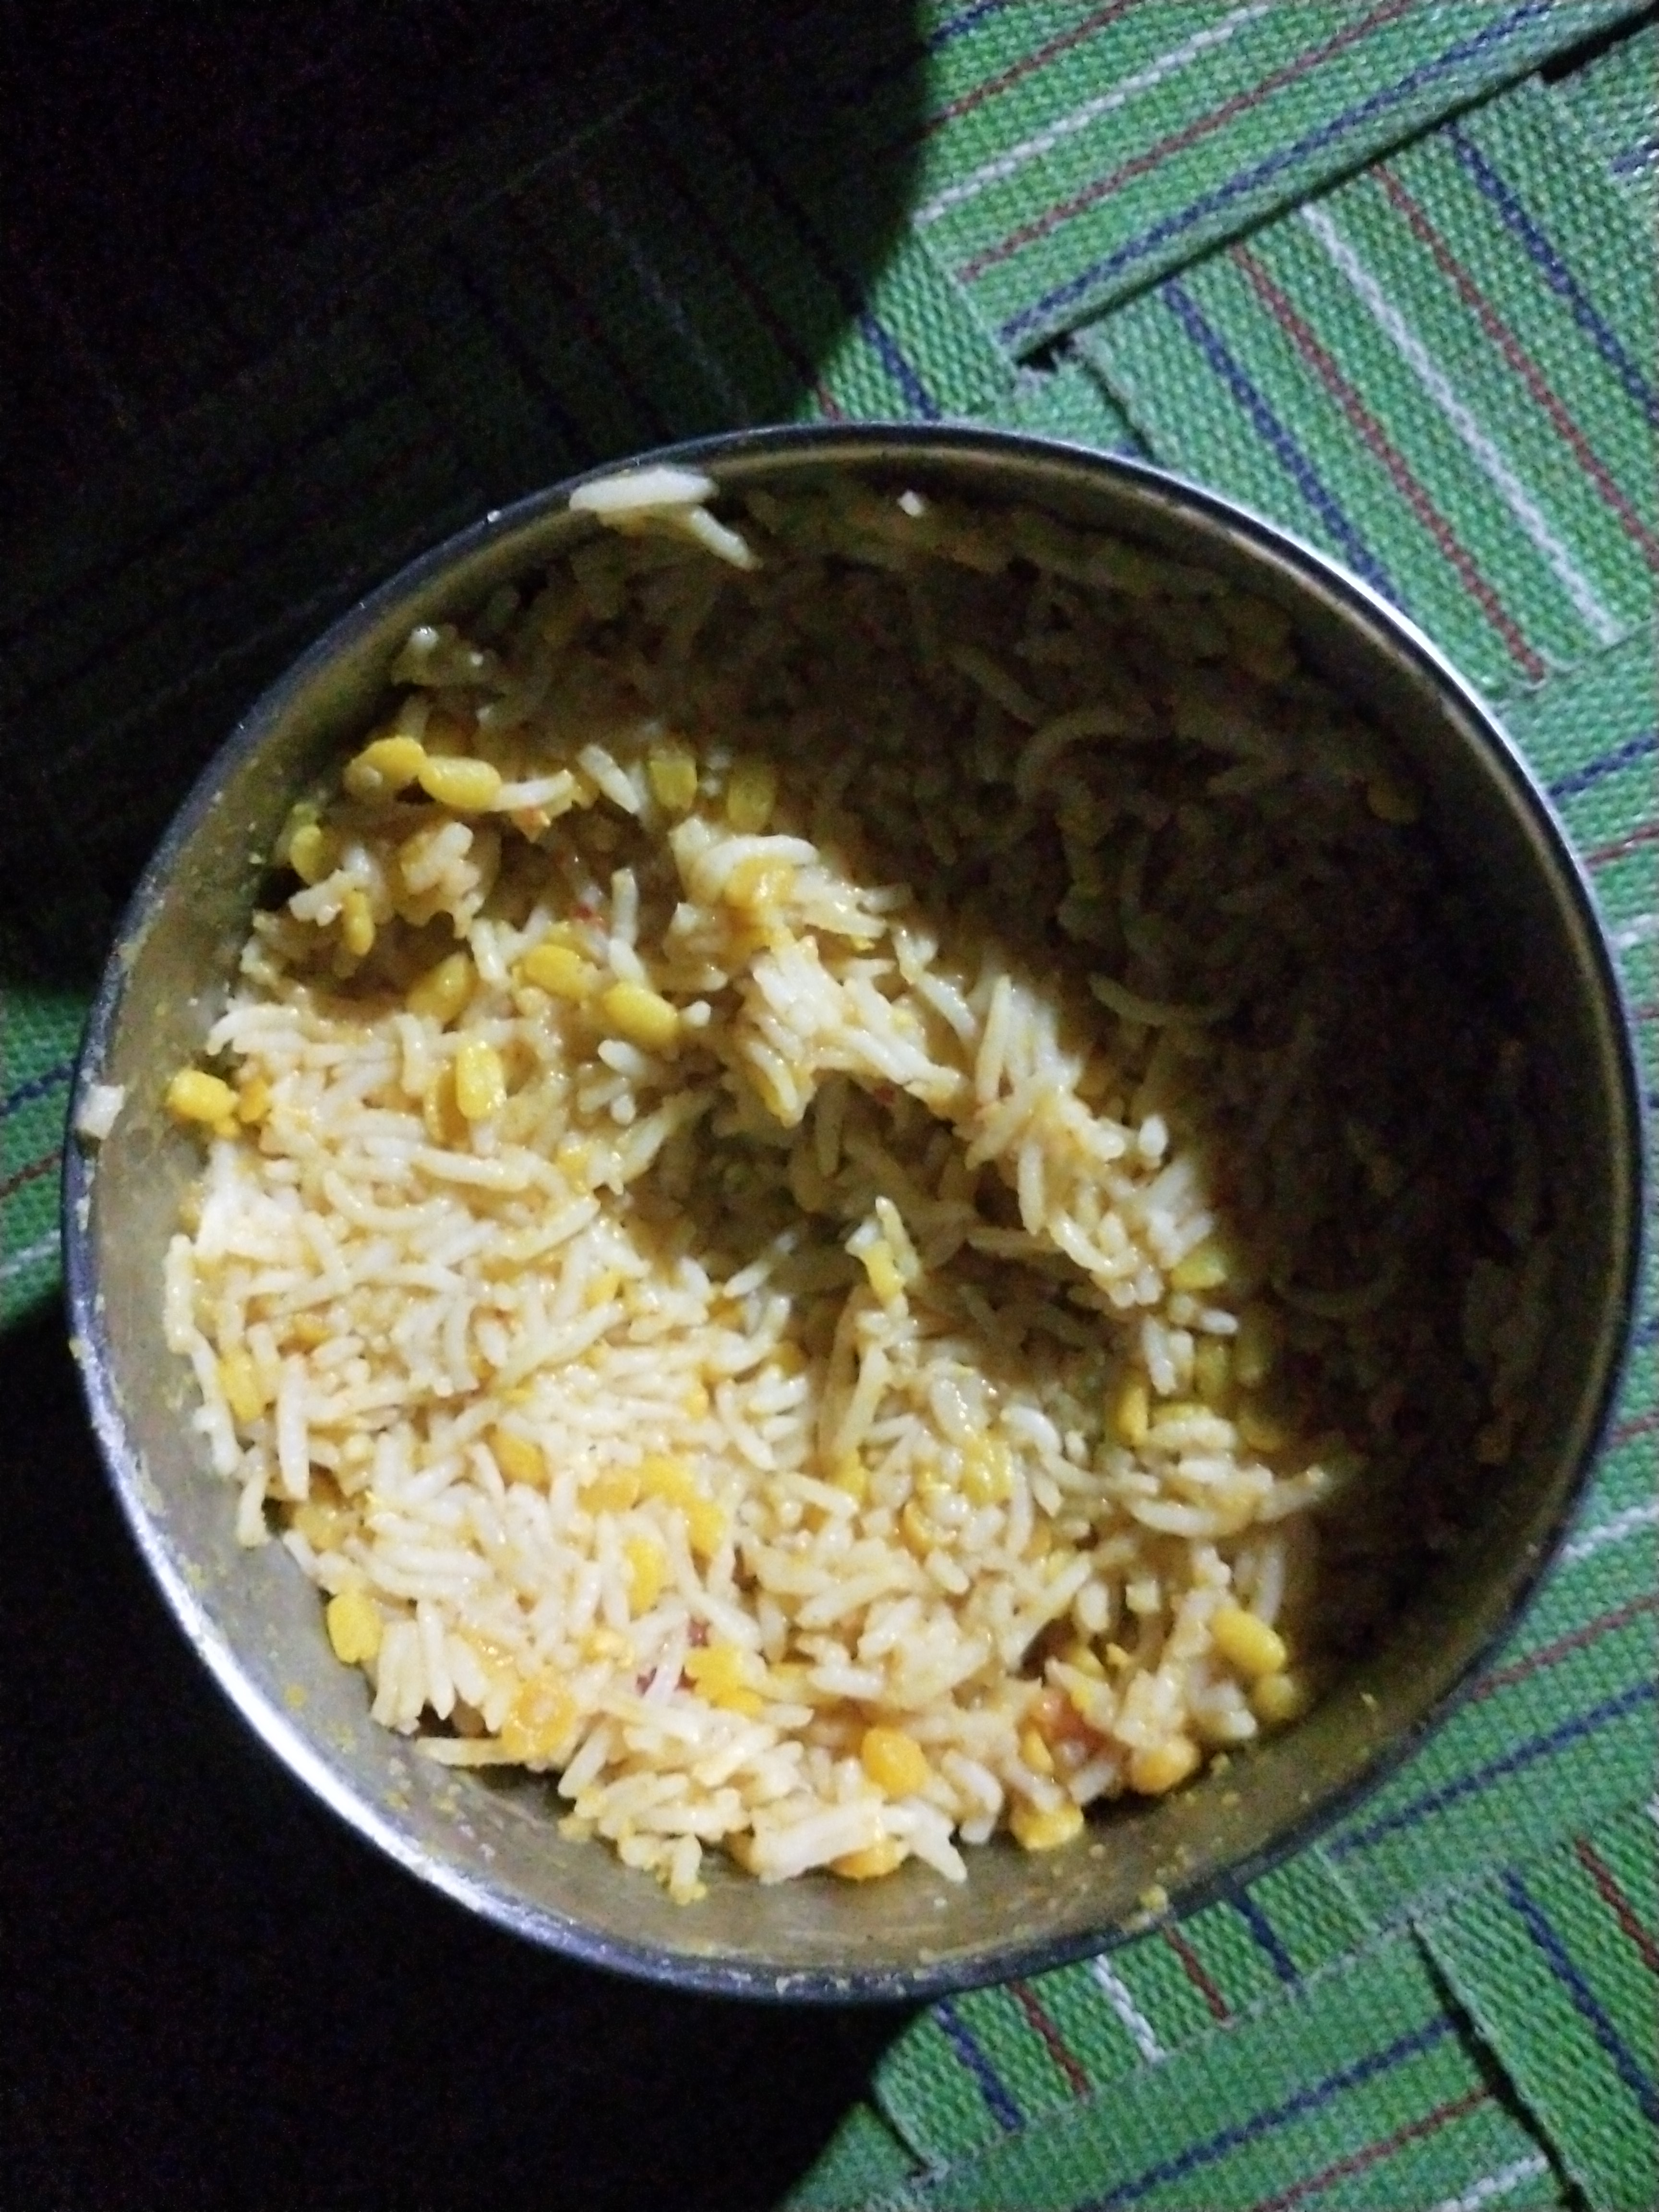food: (164, 463, 1574, 1909)
